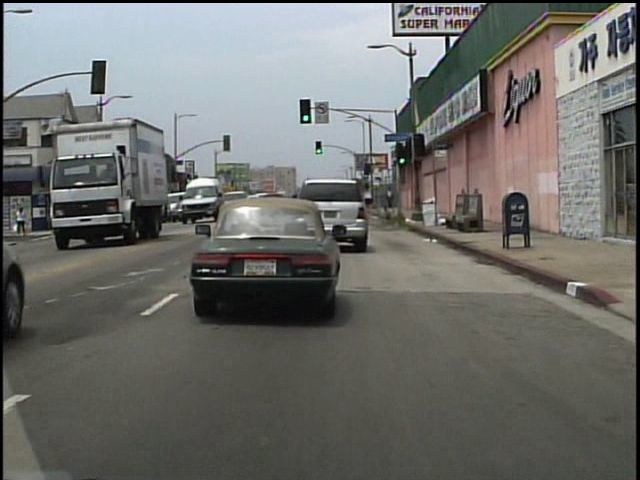person: (18, 207, 29, 237), (387, 187, 396, 209)
